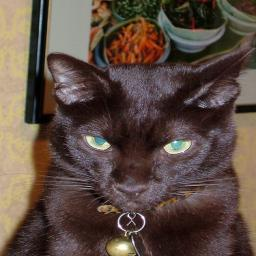catnose: (114, 178, 154, 203)
